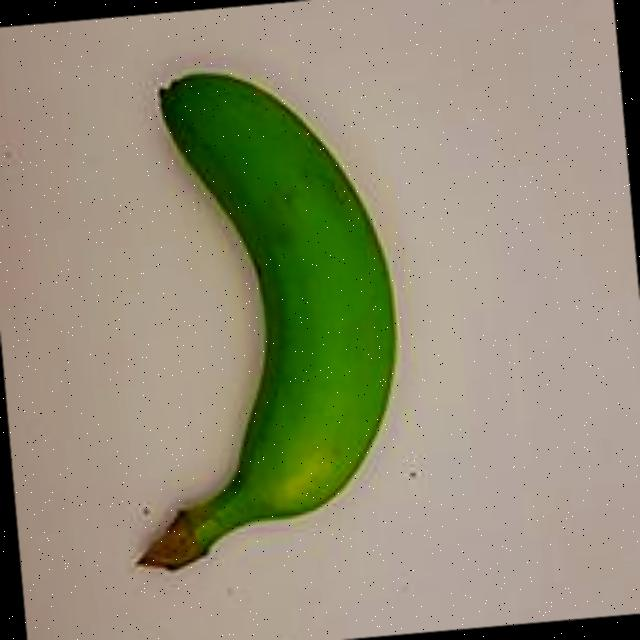Unripe: (82, 38, 454, 602)
